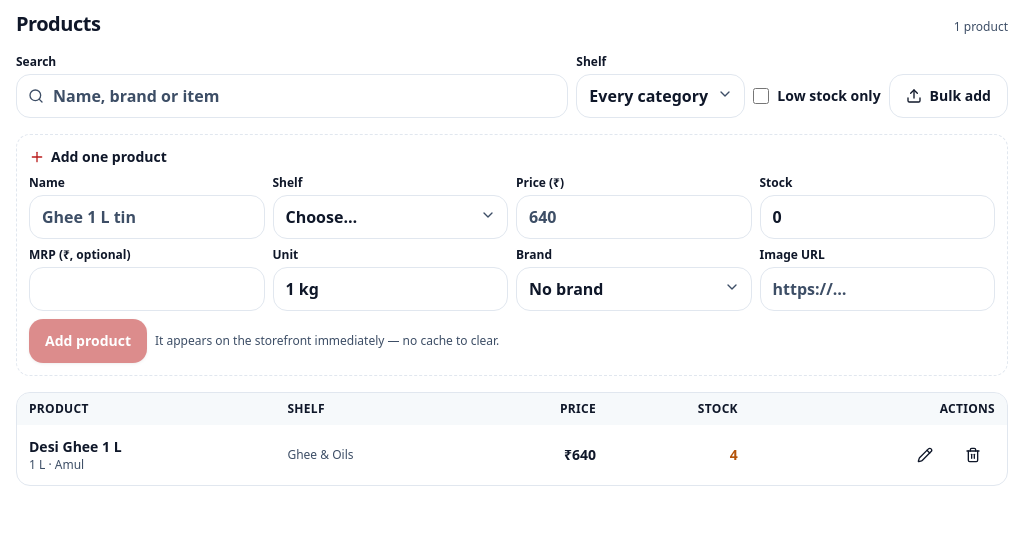
Test: AdminProductsPage › adds one product from the inline row and converts rupees to paise
Type "Fresh Paneer" into the field labelled "Name". click: (147, 217)
box: [29,195,264,239]
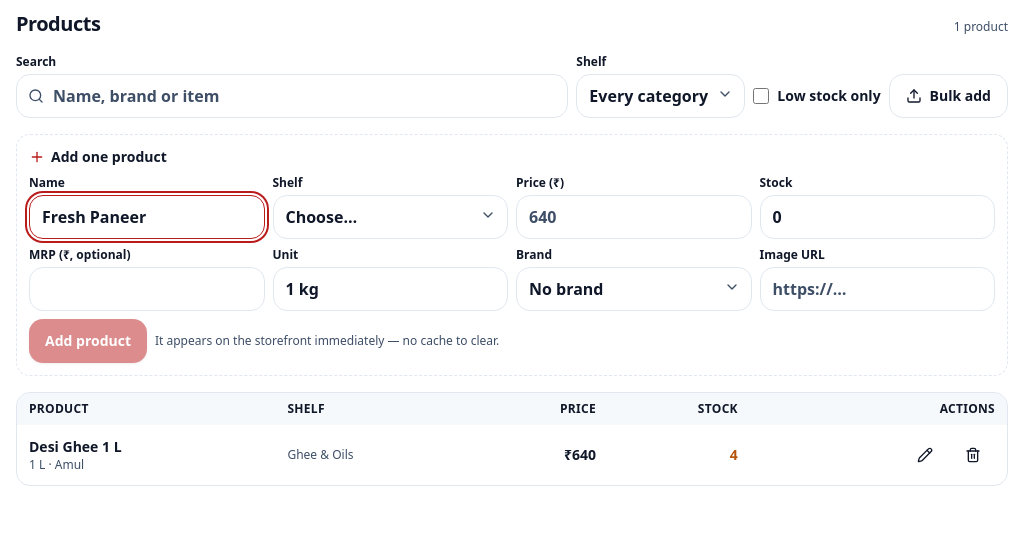
Select "Ghee & Oils" in the dropdown labelled "Shelf" below "Name". click: (390, 217)
box: [272,195,508,239]
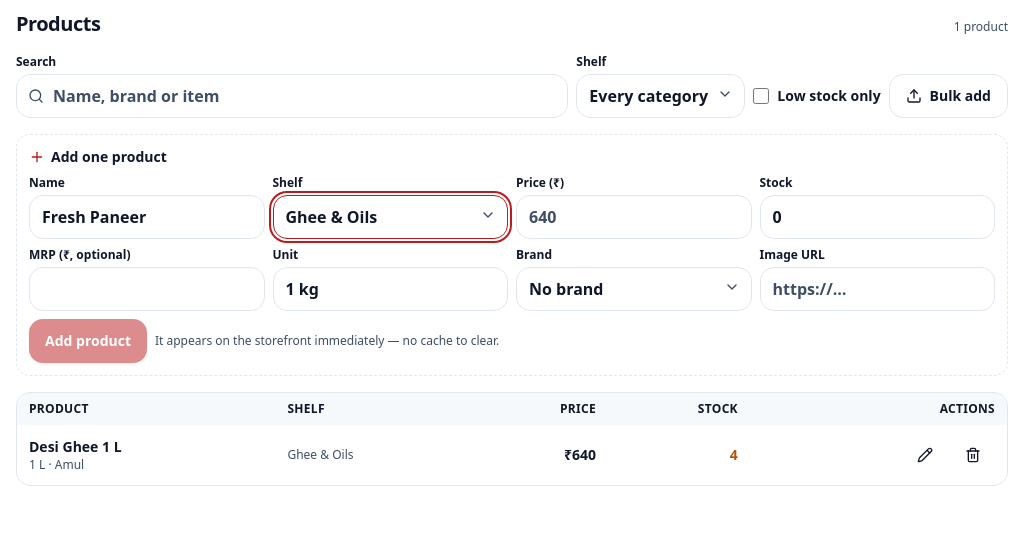
Type "145.50" into the field labelled "Price (₹)". click: (634, 217)
box: [516,195,752,239]
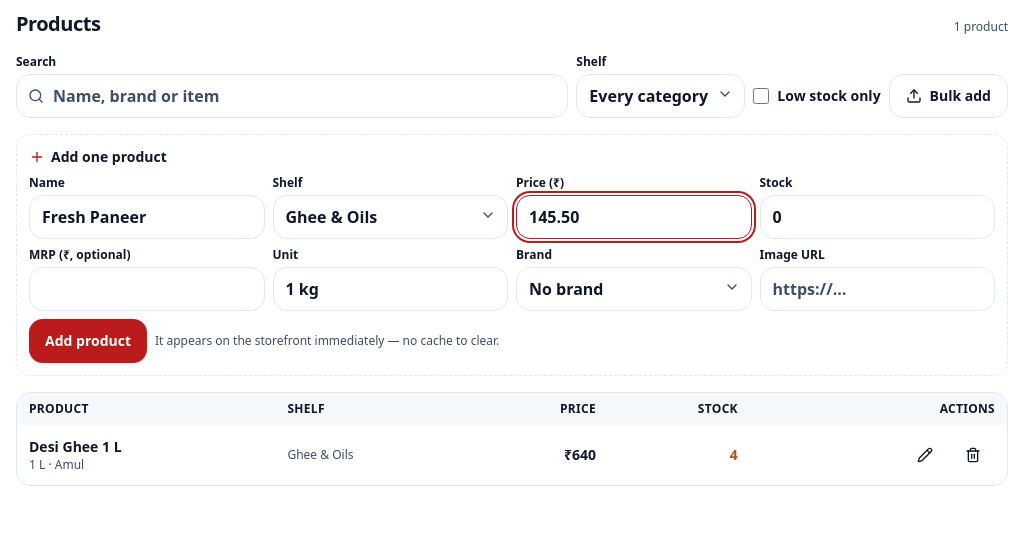
Type "12" into the field labelled "Stock". click: (877, 217)
box: [760,195,995,239]
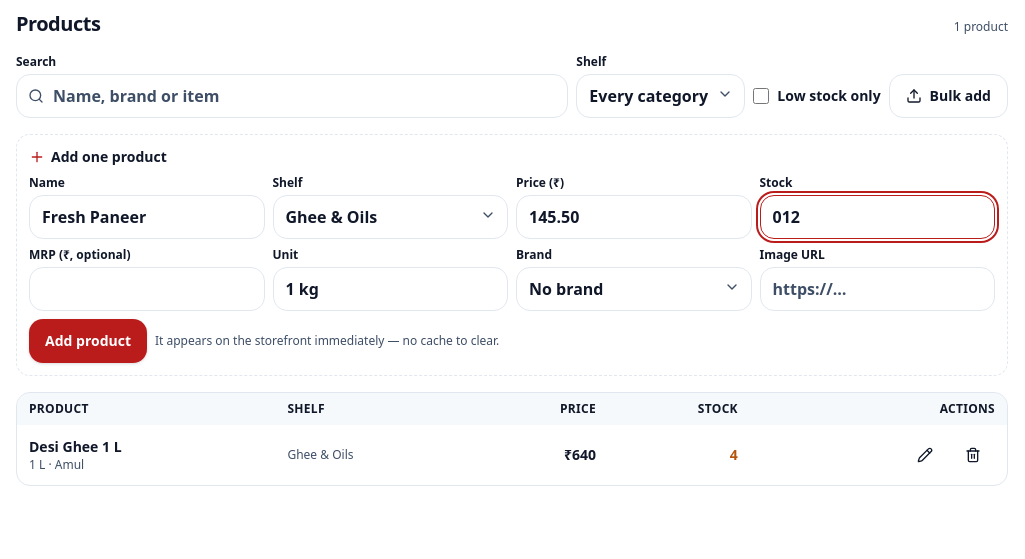
Click the button "Add product". click: (88, 341)
box: [29,319,147,363]
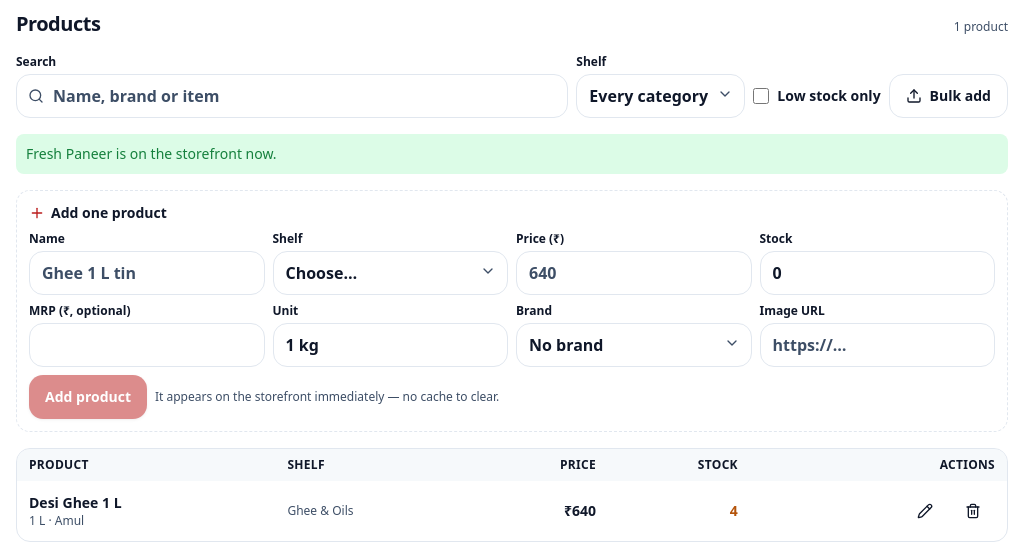
Expected: the text "Fresh Paneer is on the storefront now." is shown, [16,134,1008,174]
